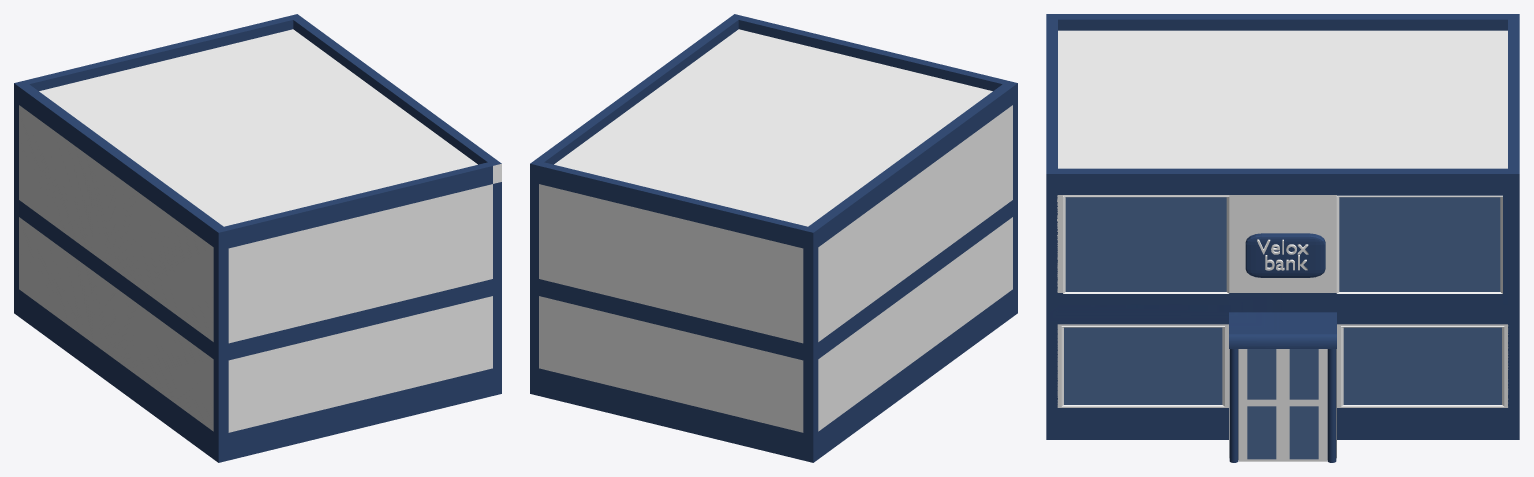
Rendered from Bank.fbx.
The picture shows the model from 3 angles, left to right: view 1: azimuth 30°, elevation 25°; view 2: azimuth 150°, elevation 25°; view 3: azimuth 270°, elevation 25°; orthographic projection. The views are drawn at different scales.
Parts seen in each view (by area): view 1: Building_Bank; view 2: Building_Bank; view 3: Building_Bank.
Boxes of the visible parts, x1,y1,x2,y2 form: Building_Bank: (14,14,501,462); Building_Bank: (530,14,1017,462); Building_Bank: (1046,14,1519,462).
Bounding box in the file's own units: 12.59 × 8.49 × 13.63.
1 material, 1 textured.
